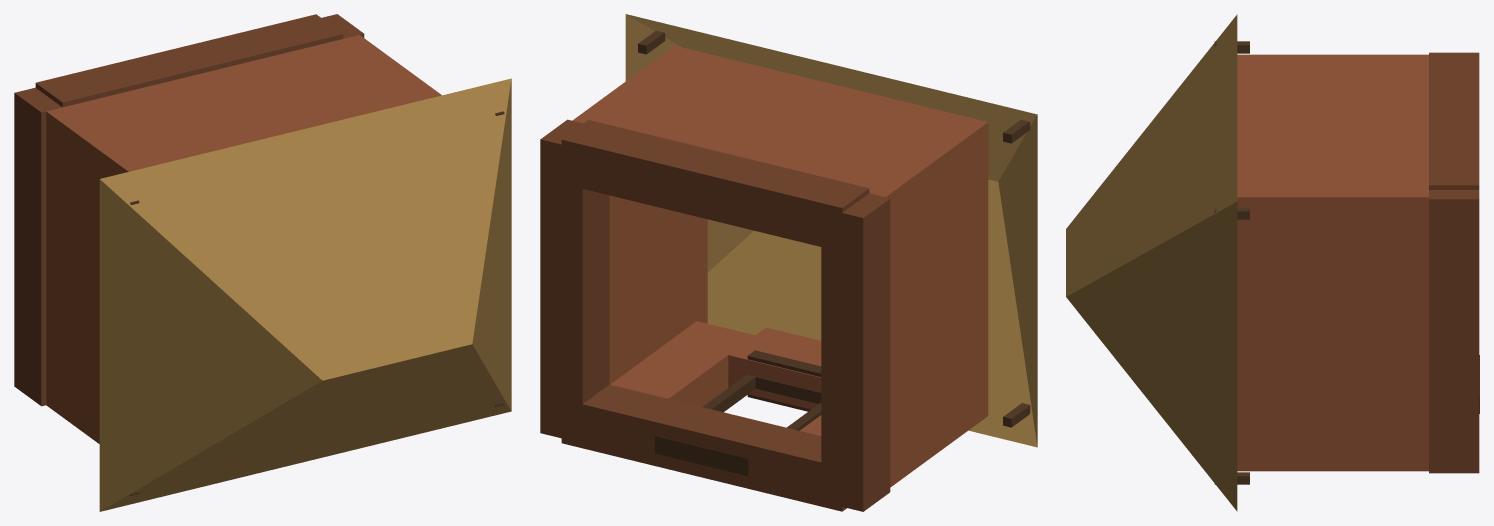
Rendered from CH01_HUT_ASSEMBLED_V1.obj.
The picture shows the model from 3 angles, left to right: view 1: azimuth 30°, elevation 25°; view 2: azimuth 150°, elevation 25°; view 3: azimuth 270°, elevation 25°; orthographic projection. The views are drawn at different scales.
Bounding box in the file's own units: 4.4 × 3.4 × 4.1.
